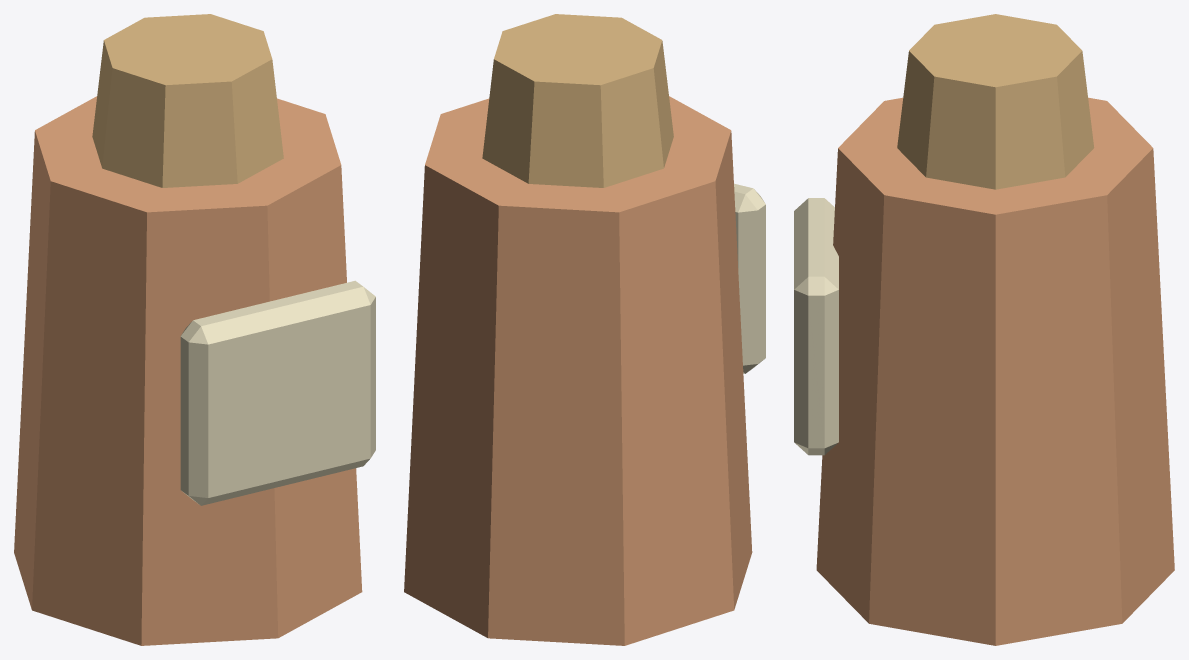
File: CC_MedicineAnimal.fbx
The picture shows the model from 3 angles, left to right: view 1: azimuth 30°, elevation 25°; view 2: azimuth 150°, elevation 25°; view 3: azimuth 270°, elevation 25°; orthographic projection.
Parts seen in each view (by area): view 1: Medicine jar.014, Animal label, Cork.014; view 2: Medicine jar.014, Cork.014, Animal label; view 3: Medicine jar.014, Cork.014, Animal label.
Boxes of the visible parts, bbox=[...] form: Medicine jar.014: bbox=[14, 96, 362, 645]; Animal label: bbox=[180, 280, 375, 505]; Cork.014: bbox=[92, 14, 283, 187]; Medicine jar.014: bbox=[404, 96, 752, 645]; Cork.014: bbox=[482, 14, 673, 187]; Animal label: bbox=[734, 183, 765, 373]; Medicine jar.014: bbox=[816, 97, 1174, 645]; Cork.014: bbox=[897, 14, 1094, 189]; Animal label: bbox=[794, 198, 838, 455].
Bounding box in the file's own units: 0.2 × 0.32 × 0.2125.
